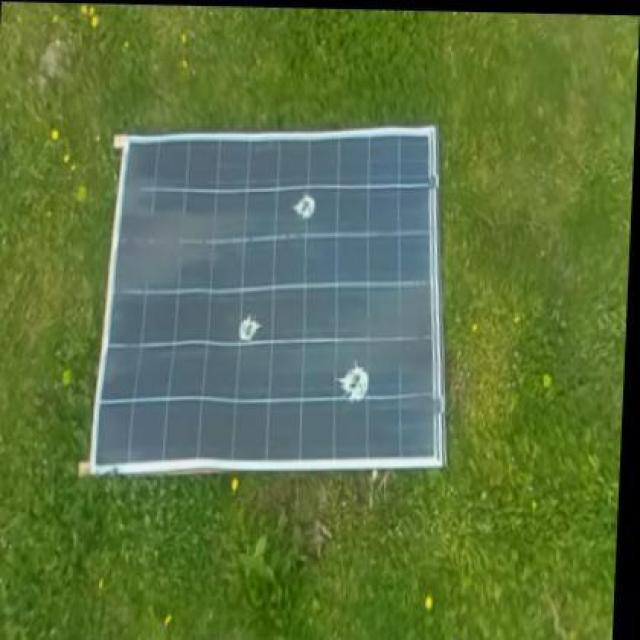soiled: (98, 130, 450, 476)
